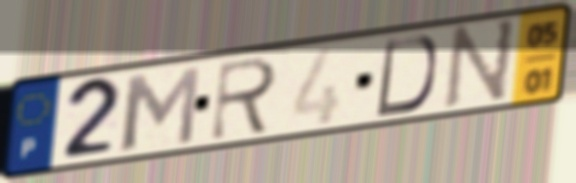2: (56, 74, 130, 168)
4: (289, 44, 346, 127)
D: (372, 33, 439, 120)
M: (118, 62, 204, 154)
N: (440, 15, 520, 112)
R: (207, 54, 282, 144)
